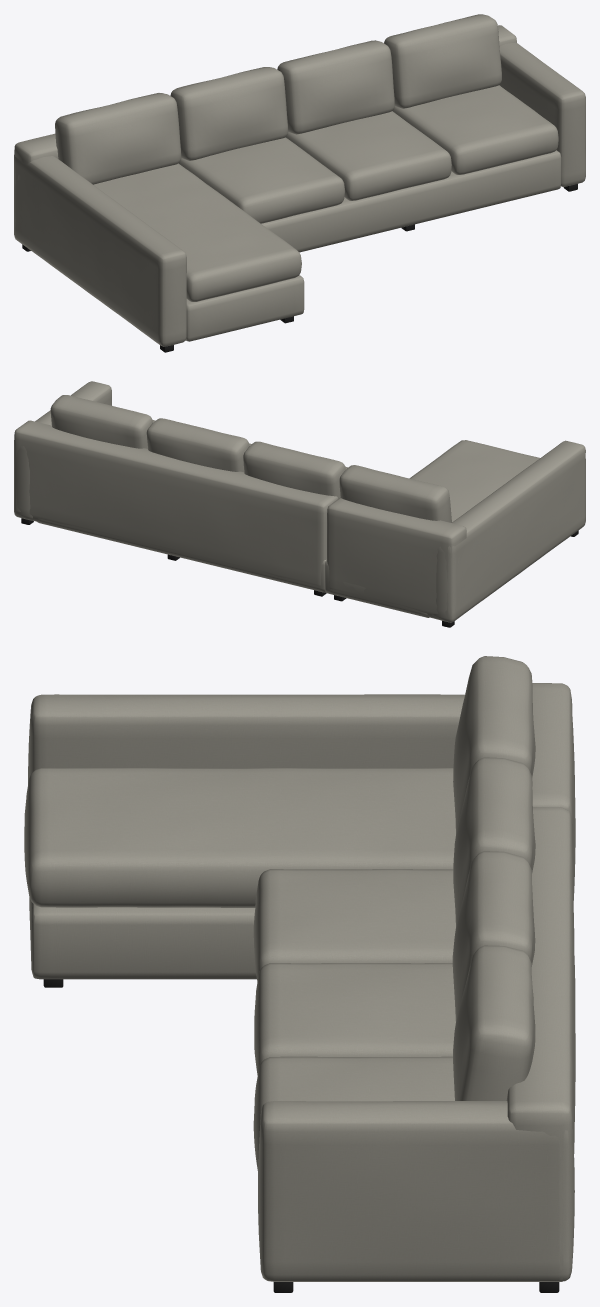
File: sofa_chaise_izquierda_4p.glb
3 views of the same model, one above another, from view 1: azimuth 30°, elevation 25°; view 2: azimuth 150°, elevation 25°; view 3: azimuth 270°, elevation 25° (orthographic). The views are drawn at different scales.
Parts seen in each view (by area): view 1: sofa_chaise_izquierda_4p; view 2: sofa_chaise_izquierda_4p; view 3: sofa_chaise_izquierda_4p.
Part boxes in pixels (x1,y1,x2,y2): sofa_chaise_izquierda_4p: (14,14,585,352); sofa_chaise_izquierda_4p: (14,381,585,627); sofa_chaise_izquierda_4p: (24,656,575,1292).
Bounding box in the file's own units: 3.11 × 0.8266 × 1.68.
2 materials, 1 textured.
